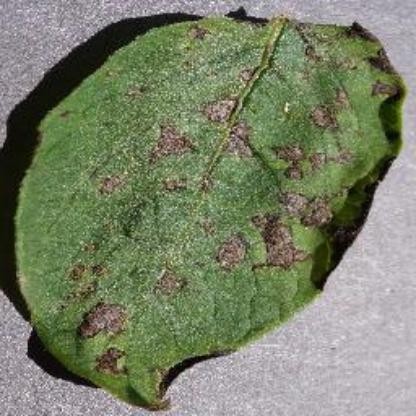Early-Blight: (12, 8, 408, 408)
